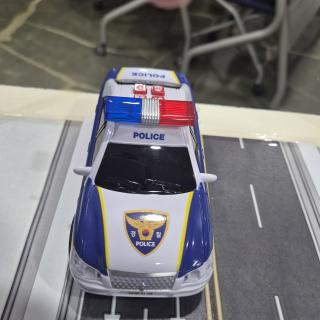Police_car: (70, 68, 217, 297)
